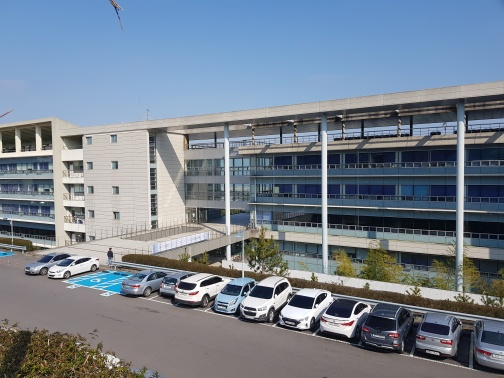Engineering College Building 4: (5, 118, 501, 268), (254, 110, 501, 274), (58, 134, 302, 247)
